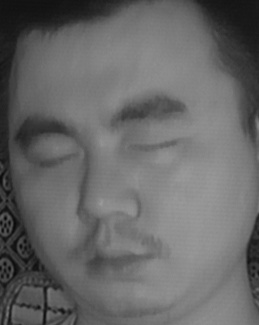blink: (131, 130, 183, 166), (32, 139, 82, 176)
mouth: (75, 237, 157, 289)
